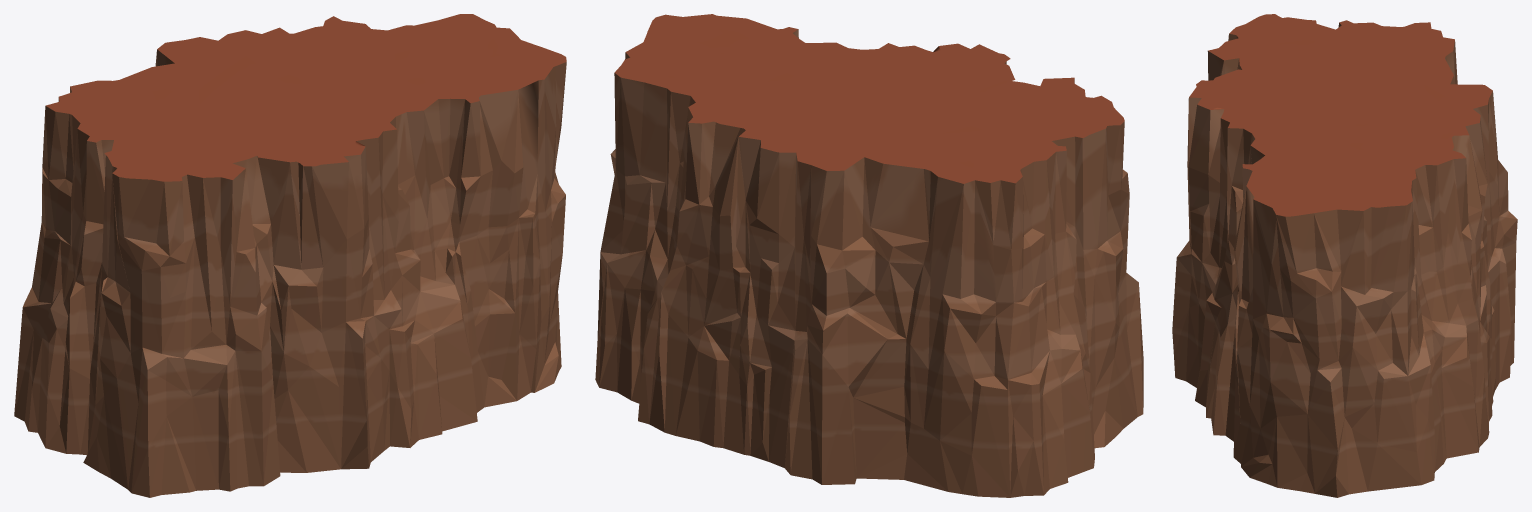
File: SM_Env_Butte_Cut_01.fbx
The picture shows the model from 3 angles, left to right: view 1: azimuth 30°, elevation 25°; view 2: azimuth 150°, elevation 25°; view 3: azimuth 270°, elevation 25°; orthographic projection. The views are drawn at different scales.
Visible parts, largest first — view 1: SM_Env_Butte_01; view 2: SM_Env_Butte_01; view 3: SM_Env_Butte_01.
Part boxes in pixels (x1,y1,x2,y2): SM_Env_Butte_01: [14, 14, 566, 497]; SM_Env_Butte_01: [595, 14, 1143, 497]; SM_Env_Butte_01: [1172, 14, 1517, 497].
Bounding box in the file's own units: 2562 × 1494 × 1700.
